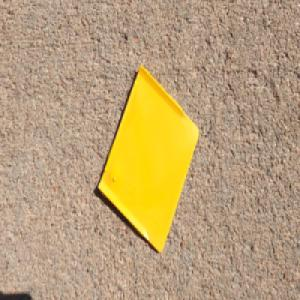PlasticPart: (95, 61, 199, 254)
